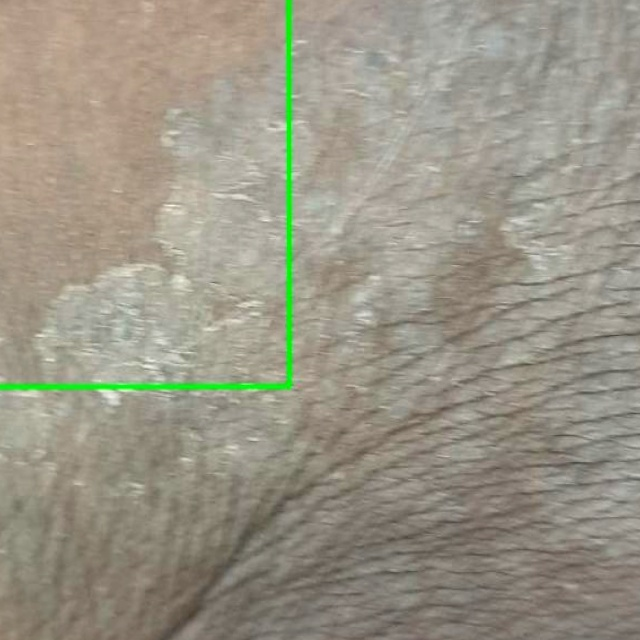Eczema: (0, 0, 289, 387)
